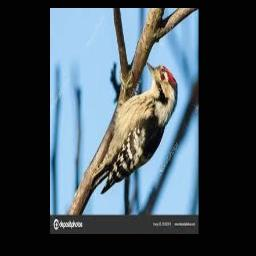Woodpecker: (91, 62, 178, 194)
